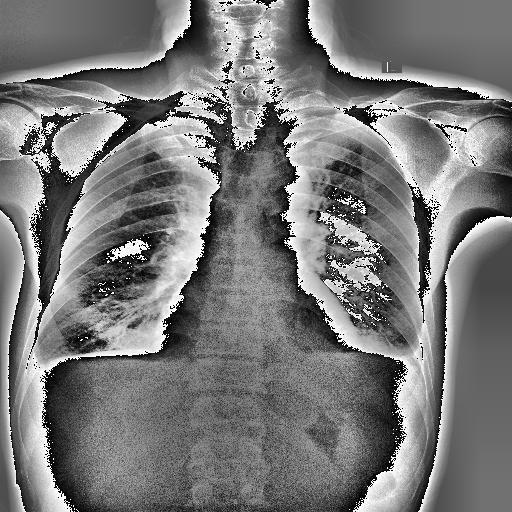10- Pleural effusion: (387, 333, 428, 383), (21, 344, 61, 390), (368, 340, 424, 372), (19, 348, 72, 381), (396, 334, 422, 377), (17, 345, 49, 379)
11- Pleural thickening: (270, 105, 330, 143), (387, 333, 428, 383), (21, 344, 61, 390), (396, 334, 422, 377), (17, 345, 49, 379)
3- Cardiomegaly: (149, 296, 362, 372)
